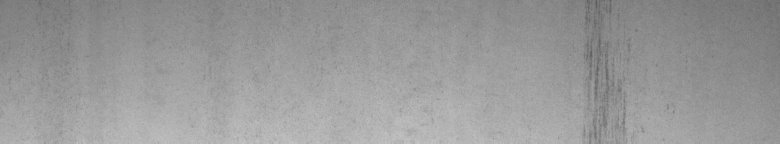ka: (584, 39, 628, 136)
